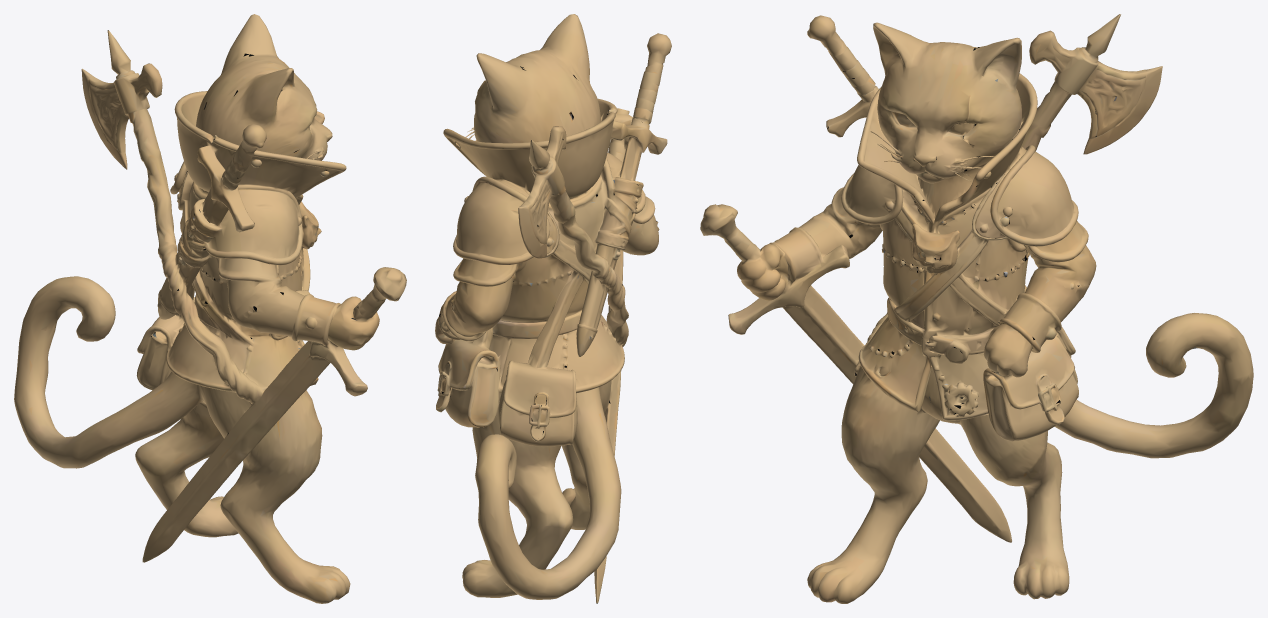
File: cat-web.glb
3 renders of one model, left to right at view 1: azimuth 30°, elevation 25°; view 2: azimuth 150°, elevation 25°; view 3: azimuth 270°, elevation 25°, orthographic. The views are drawn at different scales.
Visible parts, largest first — view 1: tripo_node_e0b9ff02; view 2: tripo_node_e0b9ff02; view 3: tripo_node_e0b9ff02.
Part boxes in pixels (x1,y1,x2,y2): tripo_node_e0b9ff02: (14, 14, 406, 603); tripo_node_e0b9ff02: (435, 14, 671, 603); tripo_node_e0b9ff02: (700, 14, 1253, 603).
Size of the model in its own units: 0.4195 by 0.9803 by 0.869.
Materials: 1 (1 with a texture image).
